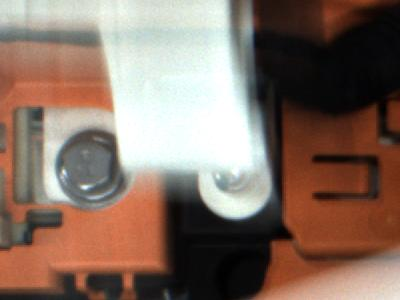nut_b: (52, 120, 130, 216)
